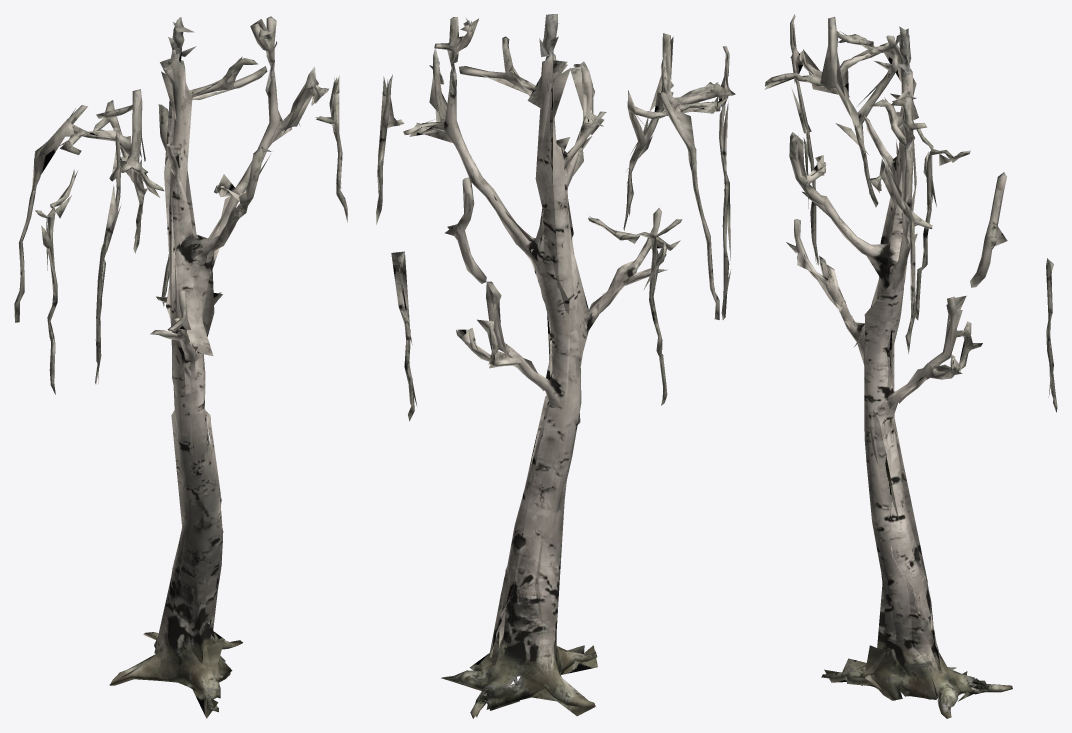
Rendered from tree_birch_trunk.glb.
3 views of the same model, side by side, from view 1: azimuth 30°, elevation 25°; view 2: azimuth 150°, elevation 25°; view 3: azimuth 270°, elevation 25° (orthographic). The views are drawn at different scales.
Visible parts, largest first — view 1: tree_birch_trunk, far; view 2: tree_birch_trunk, far; view 3: tree_birch_trunk, far.
Boxes of the visible parts, left/top/right/bottom form: tree_birch_trunk: left=14, top=16, right=347, bottom=712; far: left=31, top=17, right=341, bottom=718; tree_birch_trunk: left=376, top=14, right=735, bottom=718; far: left=377, top=14, right=731, bottom=717; tree_birch_trunk: left=765, top=14, right=1057, bottom=718; far: left=764, top=17, right=1053, bottom=709.
Size of the model in its own units: 4.27 by 8.16 by 3.28.
Materials: 1 (1 with a texture image).
